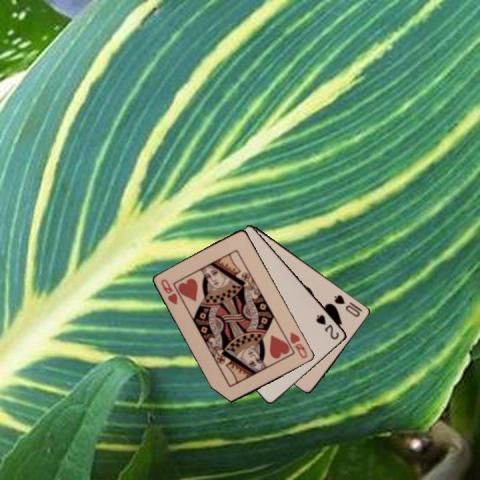10s: (331, 291, 362, 319)
2s: (313, 312, 341, 342)
Qh: (287, 329, 309, 360), (158, 276, 179, 306)
